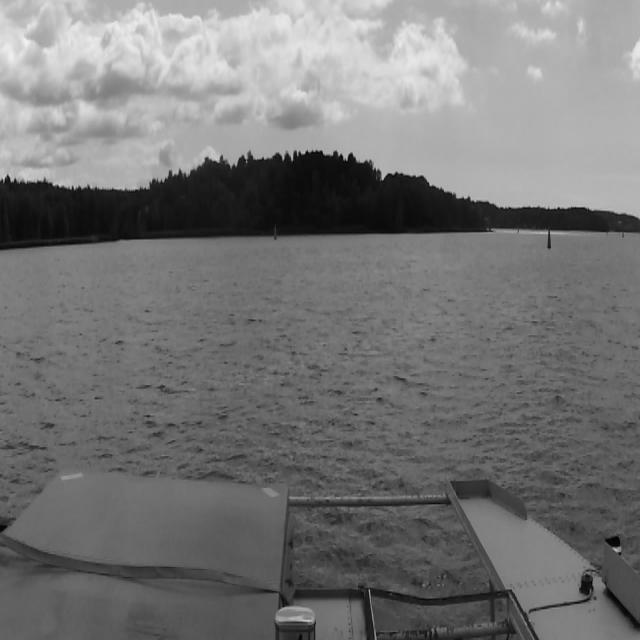buoy: (547, 228, 551, 248), (273, 225, 277, 240), (517, 226, 519, 234), (622, 230, 624, 238)
